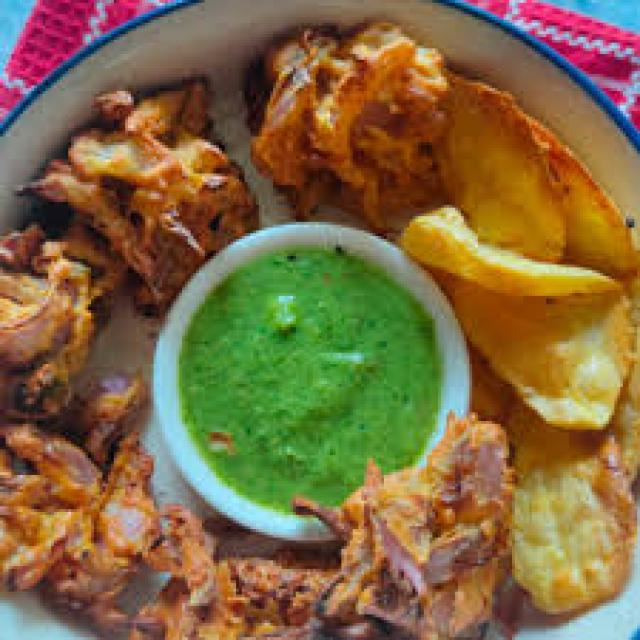BAJI: (0, 78, 518, 637), (252, 17, 461, 216)
